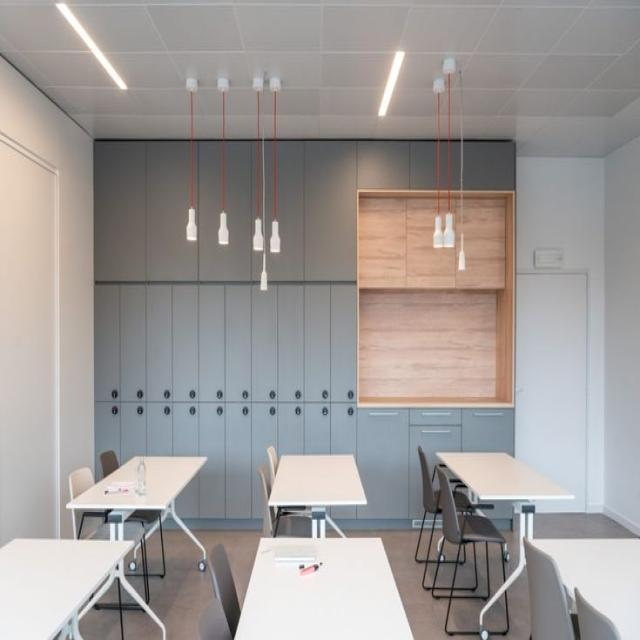obstacle: (434, 450, 574, 638), (66, 454, 208, 634), (234, 536, 414, 638), (0, 536, 134, 638), (436, 468, 512, 640), (523, 536, 639, 638), (417, 452, 481, 588), (267, 452, 367, 537)
